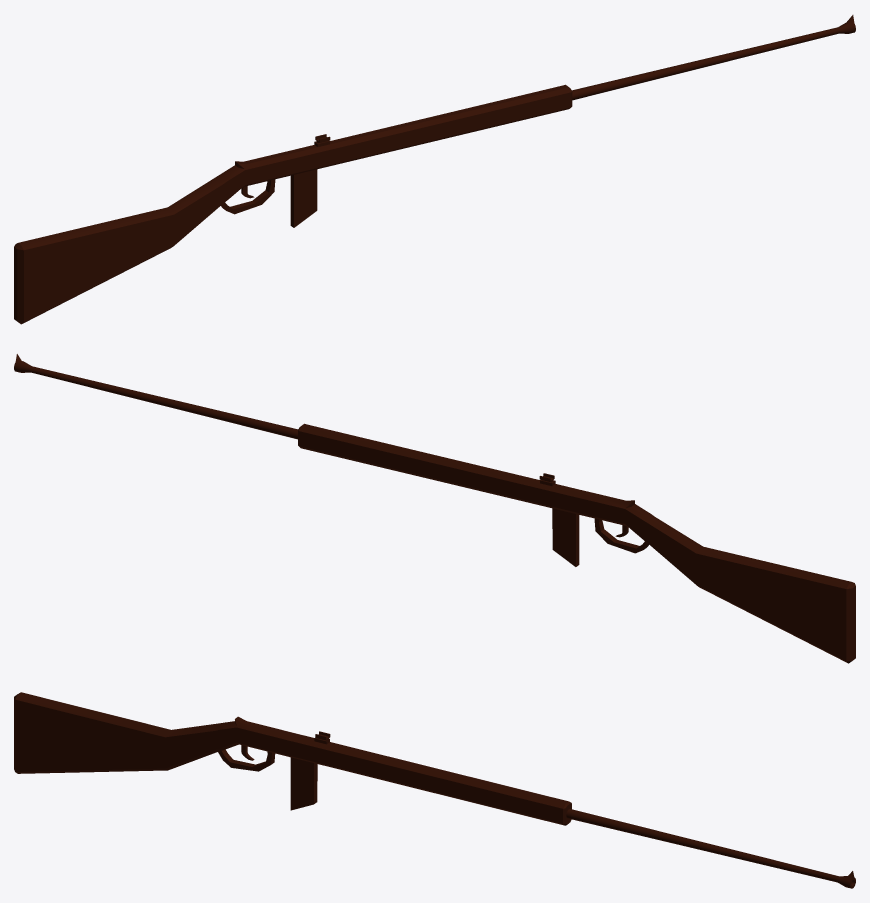
The model's file is M1 hunting rifle.FBX.
The picture shows the model from 3 angles, top to bottom: view 1: azimuth 30°, elevation 25°; view 2: azimuth 150°, elevation 25°; view 3: azimuth 330°, elevation 25°; orthographic projection.
Visible parts, largest first — view 1: Hunting rifle (no barrel); view 2: Hunting rifle (no barrel); view 3: Hunting rifle (no barrel).
Boxes of the visible parts, left/top/right/bottom form: Hunting rifle (no barrel): left=14, top=15, right=855, bottom=324; Hunting rifle (no barrel): left=14, top=354, right=855, bottom=663; Hunting rifle (no barrel): left=14, top=692, right=855, bottom=888.
Bounding box in the file's own units: 2.9 × 0.3719 × 0.05.
